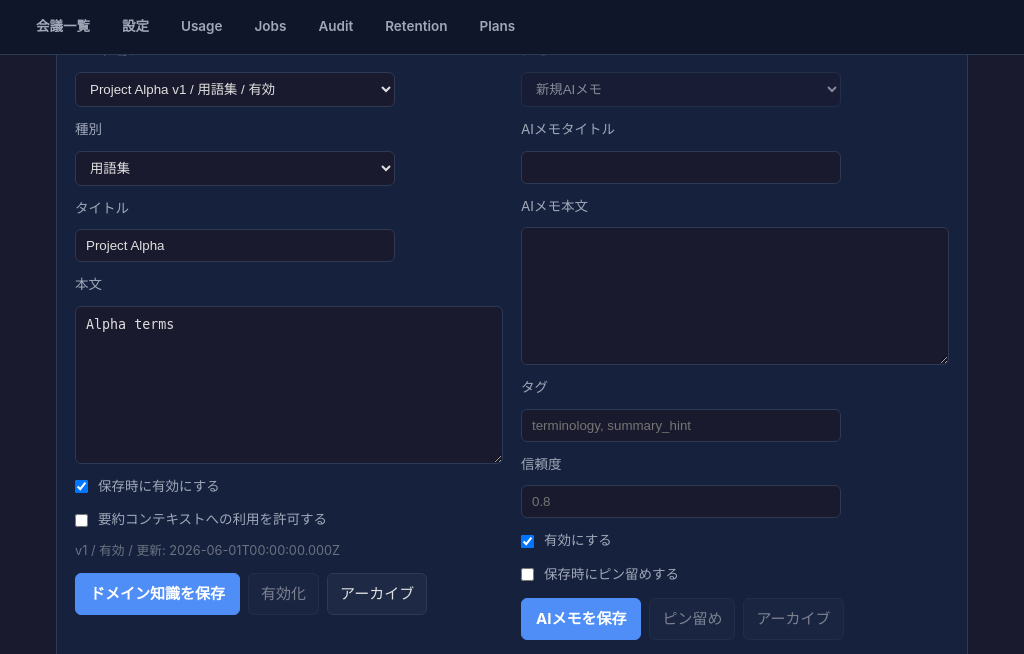
it: App access controls › shows server validation errors inline for domain knowledge saves
The width and height of the screenshot is (1024, 654).
(page scrolled)
Replace the text in the text box labelled "本文" with "Changed body" at (289, 385), box [75,306,503,464]
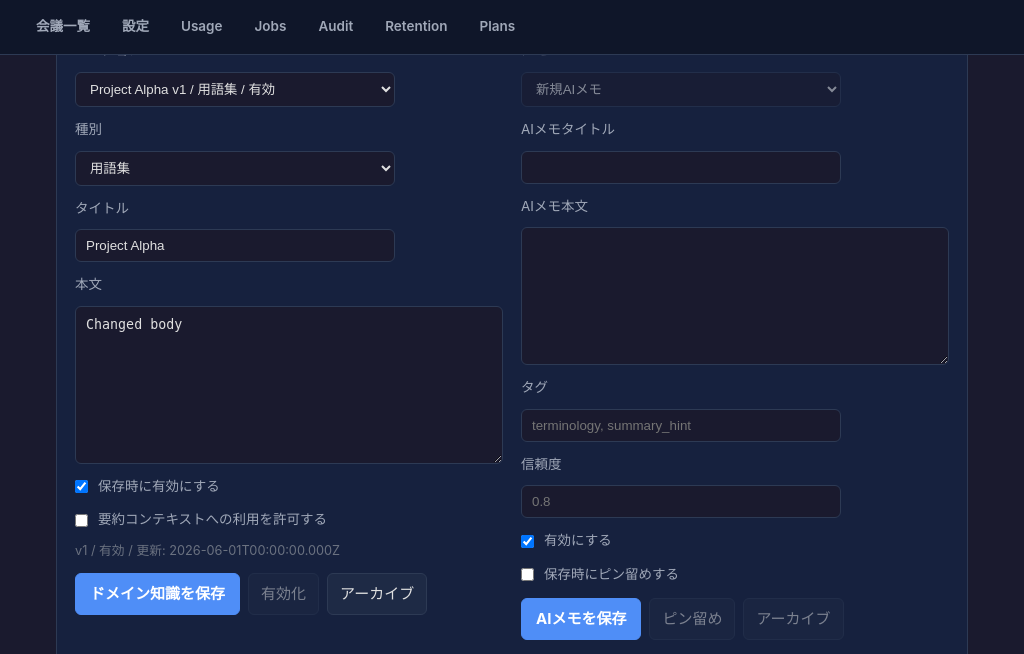
Click the button "ドメイン知識を保存" at (158, 594), box [75,573,240,615]
(page scrolled)
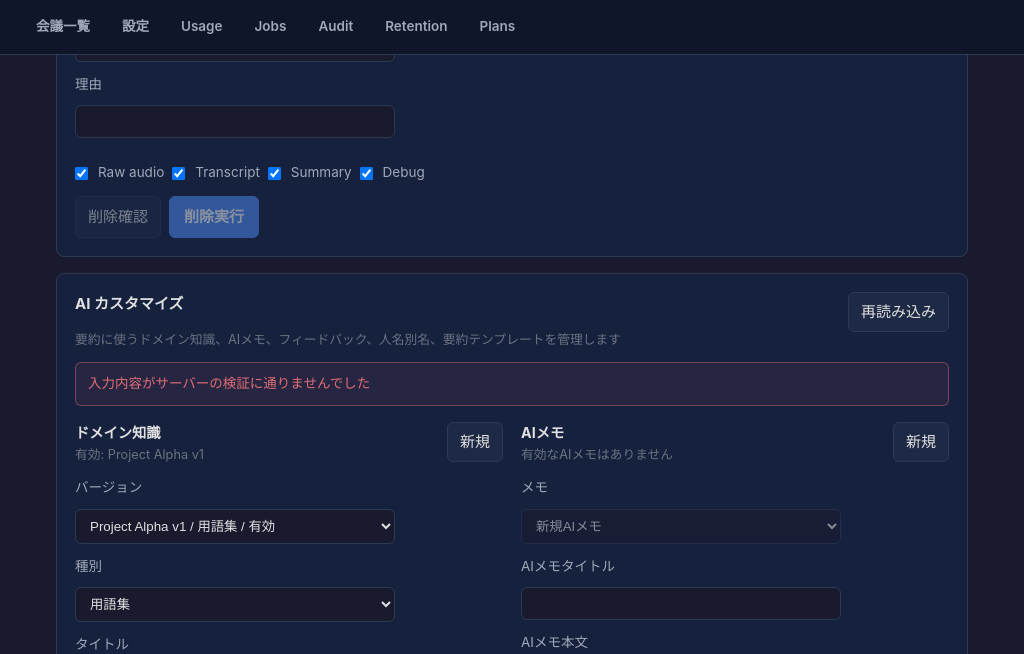
Now the text "入力内容がサーバーの検証に通りませんでした" is shown, box [75,362,949,406]
